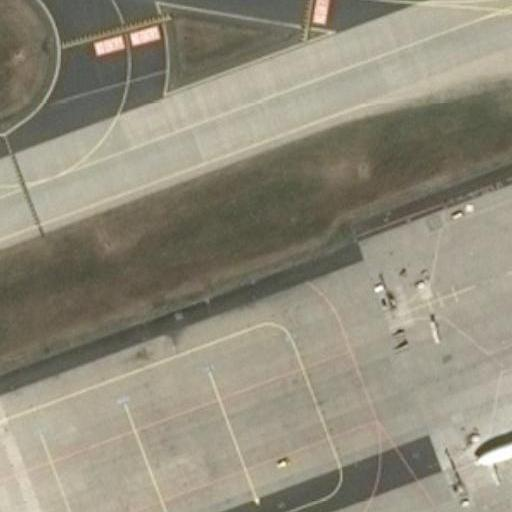Aircraft: (463, 353, 512, 500)
